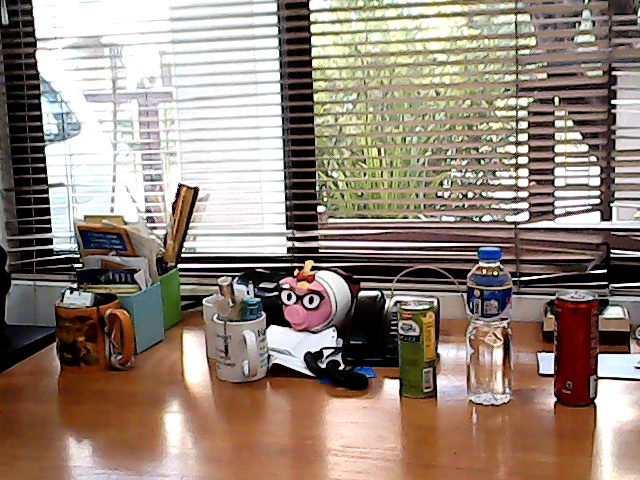Cola: (538, 277, 608, 424)
Pine Juice: (383, 292, 448, 410)
Summit Water: (452, 236, 525, 414)
